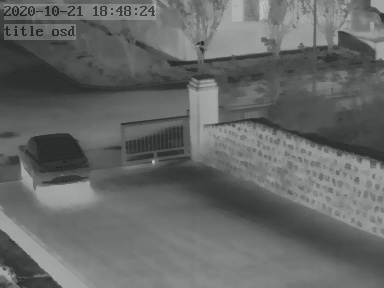vehicle: (17, 133, 96, 194)
